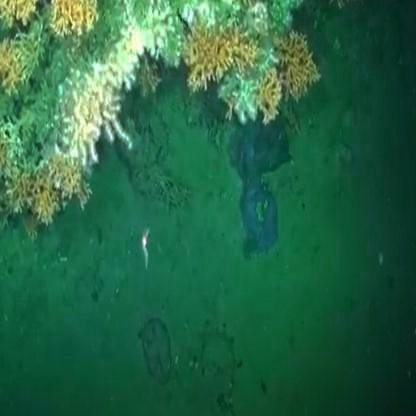plastic: (227, 126, 309, 255)
